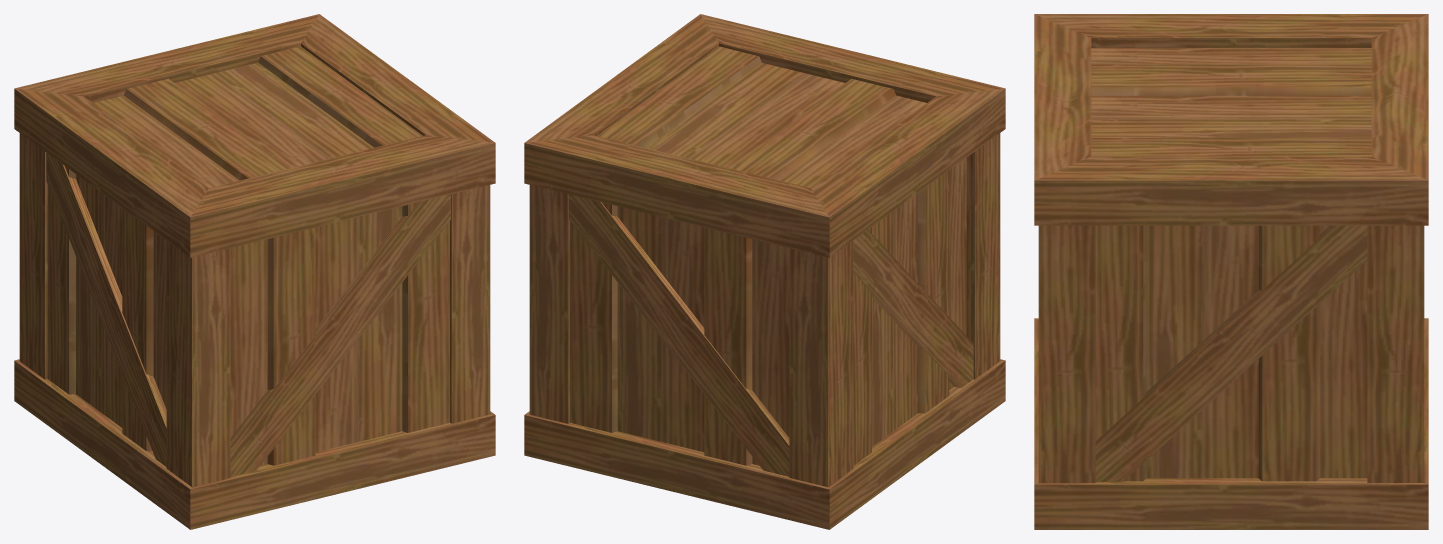
Rendered from Prop_Crate.glb.
3 views of the same model, side by side, from view 1: azimuth 30°, elevation 25°; view 2: azimuth 150°, elevation 25°; view 3: azimuth 270°, elevation 25° (orthographic). The views are drawn at different scales.
Visible parts, largest first — view 1: Prop_Crate; view 2: Prop_Crate; view 3: Prop_Crate.
Boxes of the visible parts, <box> form: Prop_Crate: <box>14,14,495,529</box>; Prop_Crate: <box>524,14,1005,529</box>; Prop_Crate: <box>1034,14,1428,529</box>.
Size of the model in its own units: 1.08 by 1.06 by 1.08.
Materials: 1 (1 with a texture image).
